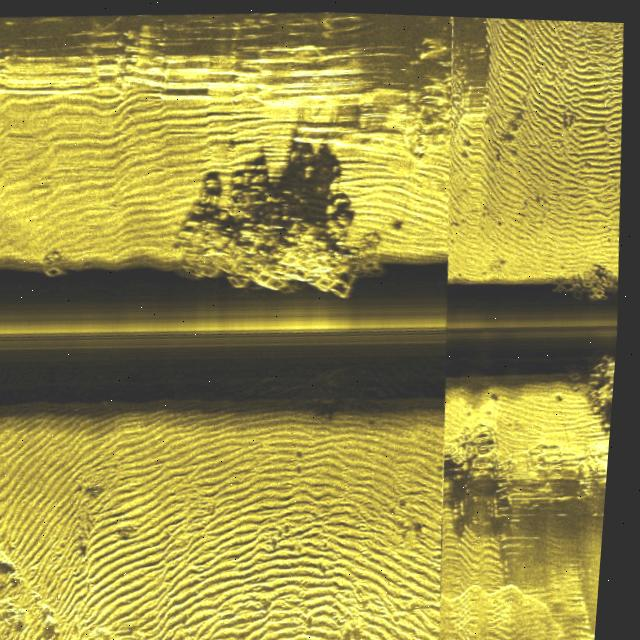artificial reef: (162, 188, 382, 323), (556, 262, 624, 311), (32, 244, 75, 277)
